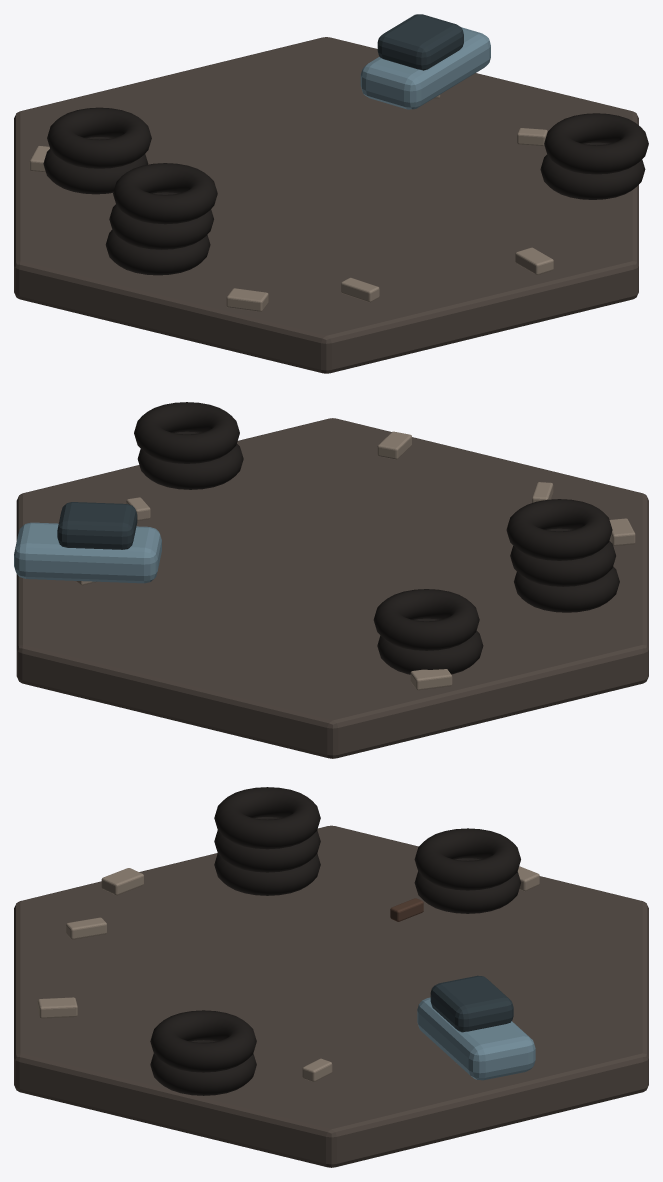
The model's file is quadra-ferrovelho.glb.
The picture shows the model from 3 angles, top to bottom: view 1: azimuth 30°, elevation 25°; view 2: azimuth 150°, elevation 25°; view 3: azimuth 270°, elevation 25°; orthographic projection.
Visible parts, largest first — view 1: lote, pneu.002, pneu.004, pneu.006, carro, cabine, pneu.001, pneu.005, pneu, pneu.003, caco.001, caco (+1 smaller); view 2: lote, carro, pneu.004, pneu.006, pneu.002, cabine, pneu.001, pneu.005, pneu, pneu.003, caco.005, caco (+1 smaller); view 3: lote, pneu.006, pneu.004, pneu.002, carro, cabine, pneu.005, pneu.003, pneu.001, pneu, caco.001, caco (+2 smaller).
Boxes of the visible parts, <box> form: lote: <box>14,37,638,373</box>; pneu.002: <box>113,163,217,224</box>; pneu.004: <box>47,107,151,168</box>; pneu.006: <box>544,113,648,174</box>; carro: <box>360,27,490,109</box>; cabine: <box>377,14,463,70</box>; pneu.001: <box>109,192,213,249</box>; pneu.005: <box>540,142,645,199</box>; pneu: <box>105,230,210,275</box>; pneu.003: <box>43,137,148,194</box>; caco.001: <box>226,288,268,311</box>; caco: <box>515,247,553,274</box>; lote: <box>16,418,648,758</box>; carro: <box>14,522,161,583</box>; pneu.004: <box>373,589,479,650</box>; pneu.006: <box>134,402,239,463</box>; pneu.002: <box>506,499,612,560</box>; cabine: <box>57,502,137,549</box>; pneu.001: <box>510,528,615,586</box>; pneu.005: <box>137,431,243,489</box>; pneu: <box>514,566,619,612</box>; pneu.003: <box>377,618,483,674</box>; caco.005: <box>410,669,452,690</box>; caco: <box>377,431,411,459</box>; lote: <box>14,825,648,1167</box>; pneu.006: <box>150,1010,256,1072</box>; pneu.004: <box>414,828,520,890</box>; pneu.002: <box>214,787,320,849</box>; carro: <box>417,997,535,1080</box>; cabine: <box>430,975,513,1032</box>; pneu.005: <box>150,1040,256,1095</box>; pneu.003: <box>414,858,520,913</box>; pneu.001: <box>214,817,320,872</box>; pneu: <box>214,853,320,895</box>; caco.001: <box>101,868,143,895</box>; caco: <box>37,997,77,1018</box>.
Bounding box in the file's own units: 1.71 × 0.3 × 1.49.
